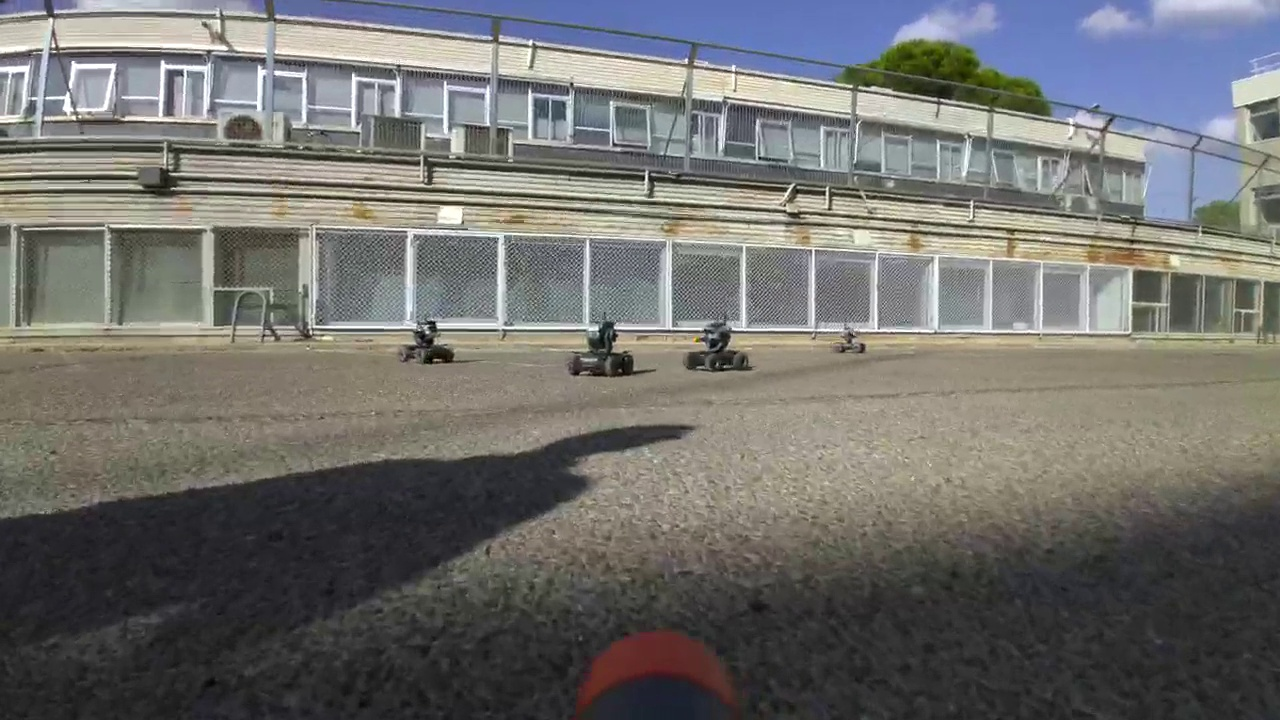robot: (569, 309, 635, 377), (685, 310, 749, 367), (396, 314, 460, 370), (833, 321, 865, 356)
